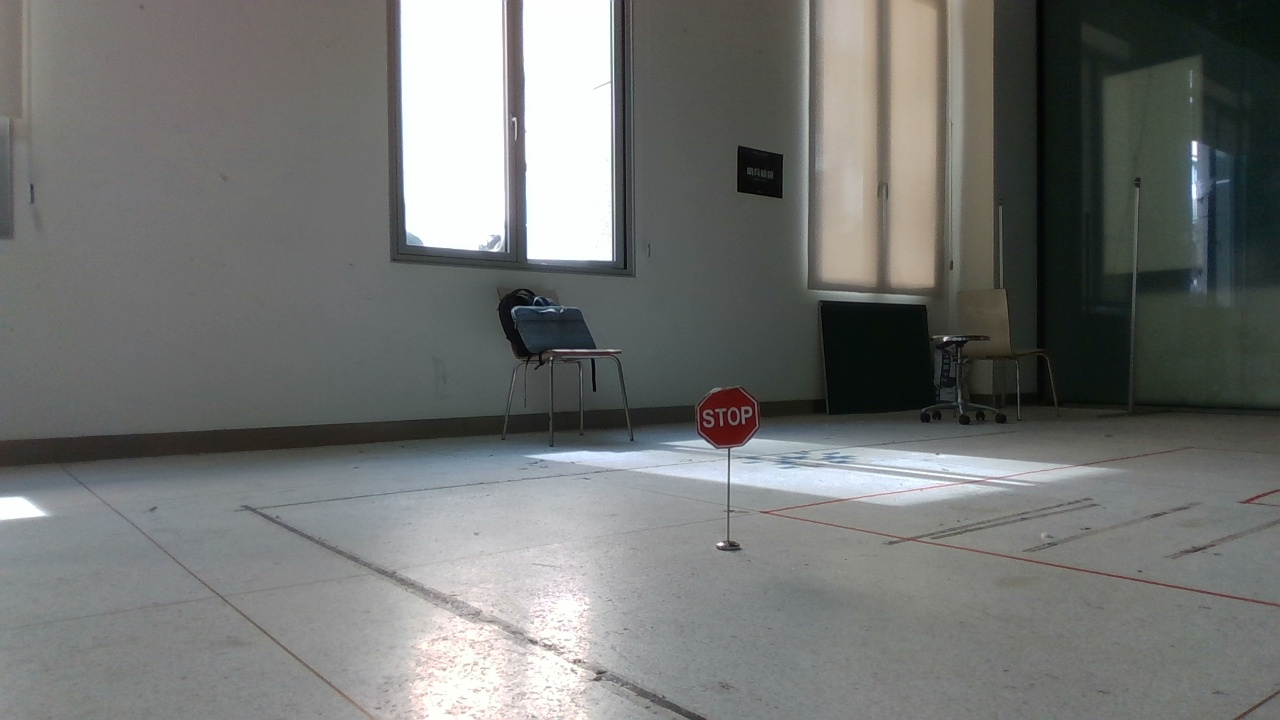stop_sign: (680, 384, 773, 451)
